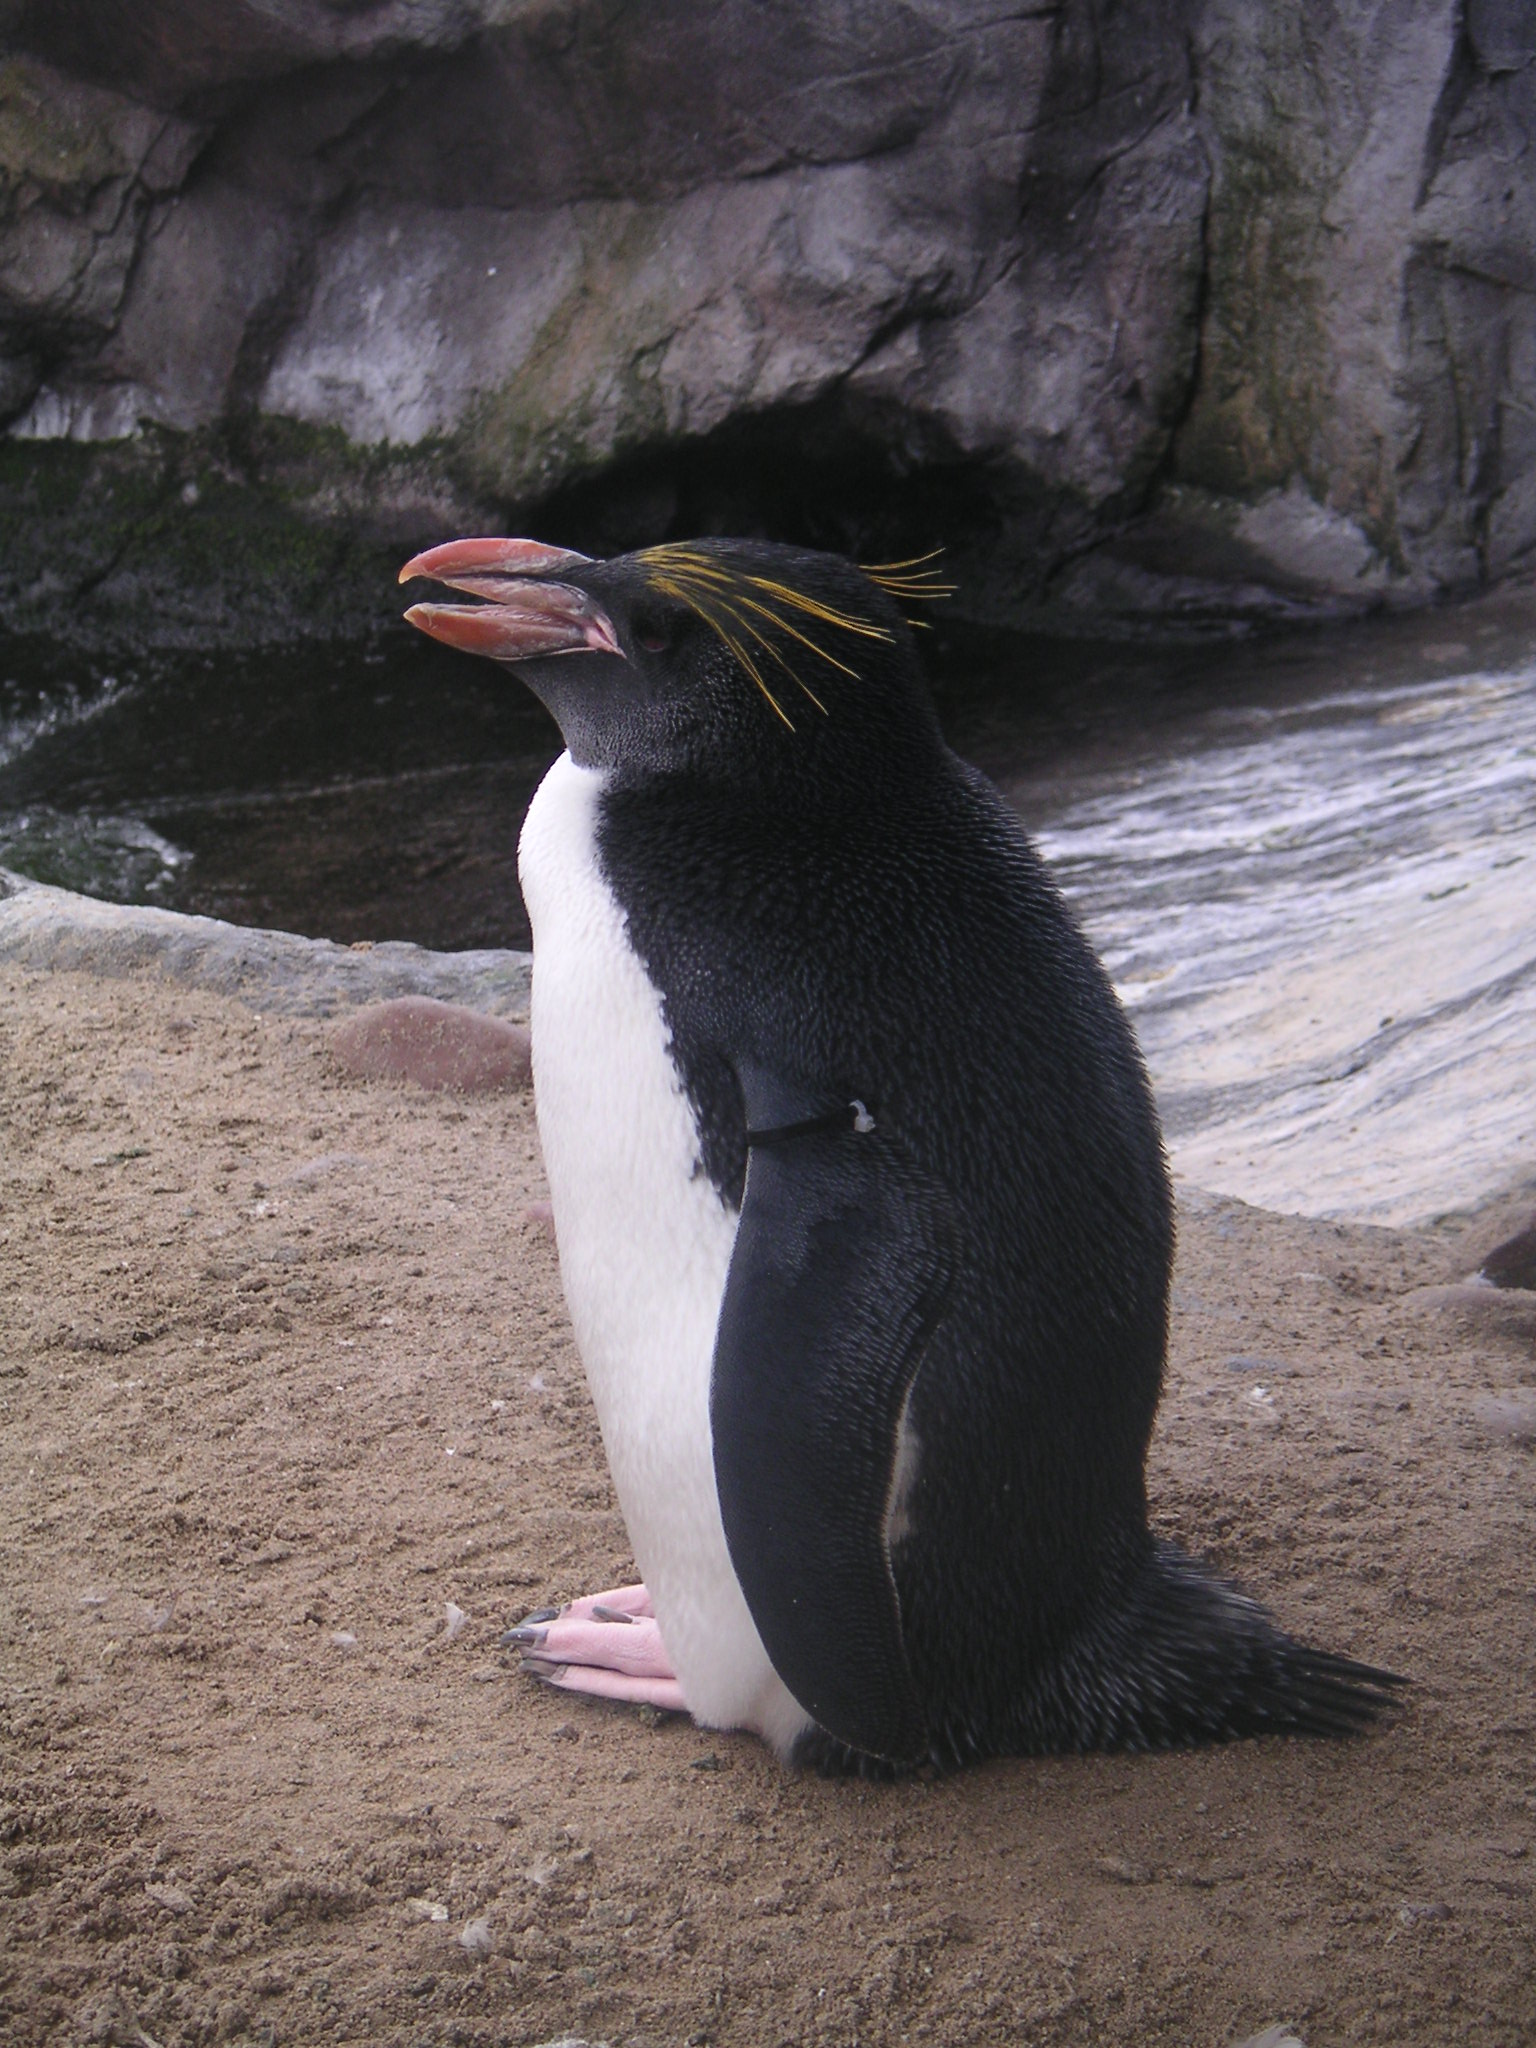penguin: (403, 529, 1405, 1755)
